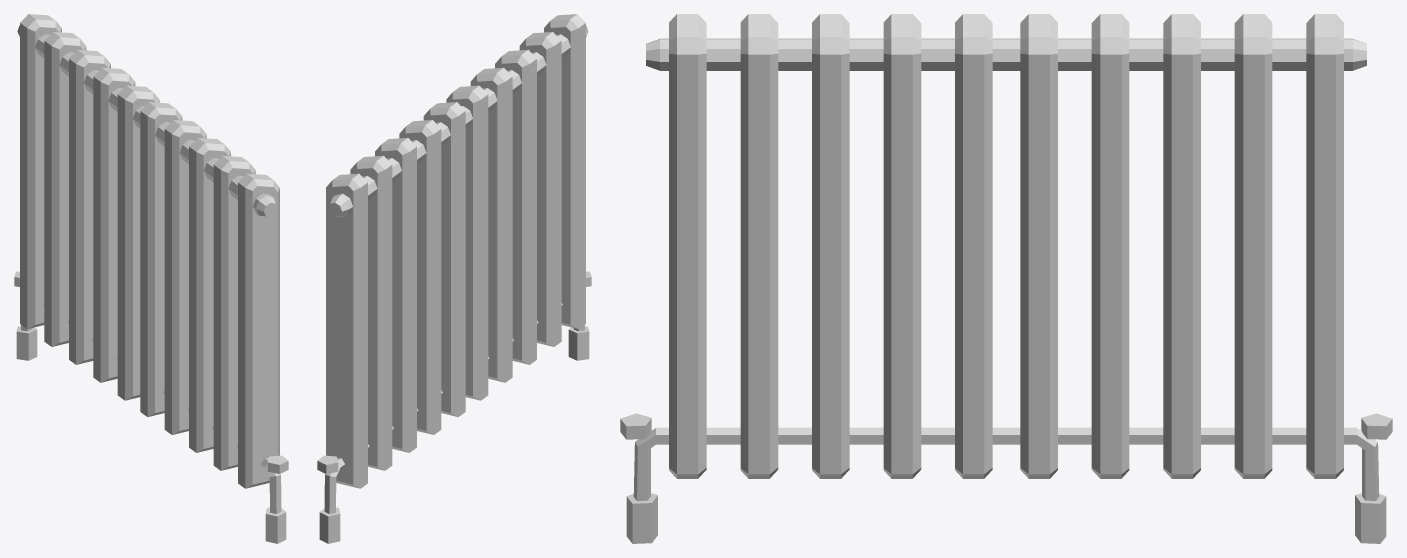
Rendered from SM_Radiator_01.glb.
3 views of the same model, side by side, from view 1: azimuth 30°, elevation 25°; view 2: azimuth 150°, elevation 25°; view 3: azimuth 270°, elevation 25° (orthographic). The views are drawn at different scales.
Parts seen in each view (by area): view 1: SM_Radiator_01; view 2: SM_Radiator_01; view 3: SM_Radiator_01.
Boxes of the visible parts, x1,y1,x2,y2 form: SM_Radiator_01: (14, 14, 288, 543); SM_Radiator_01: (317, 14, 591, 543); SM_Radiator_01: (620, 14, 1392, 543).
Bounding box in the file's own units: 0.1349 × 1.32 × 1.78.
1 material, 1 textured.
